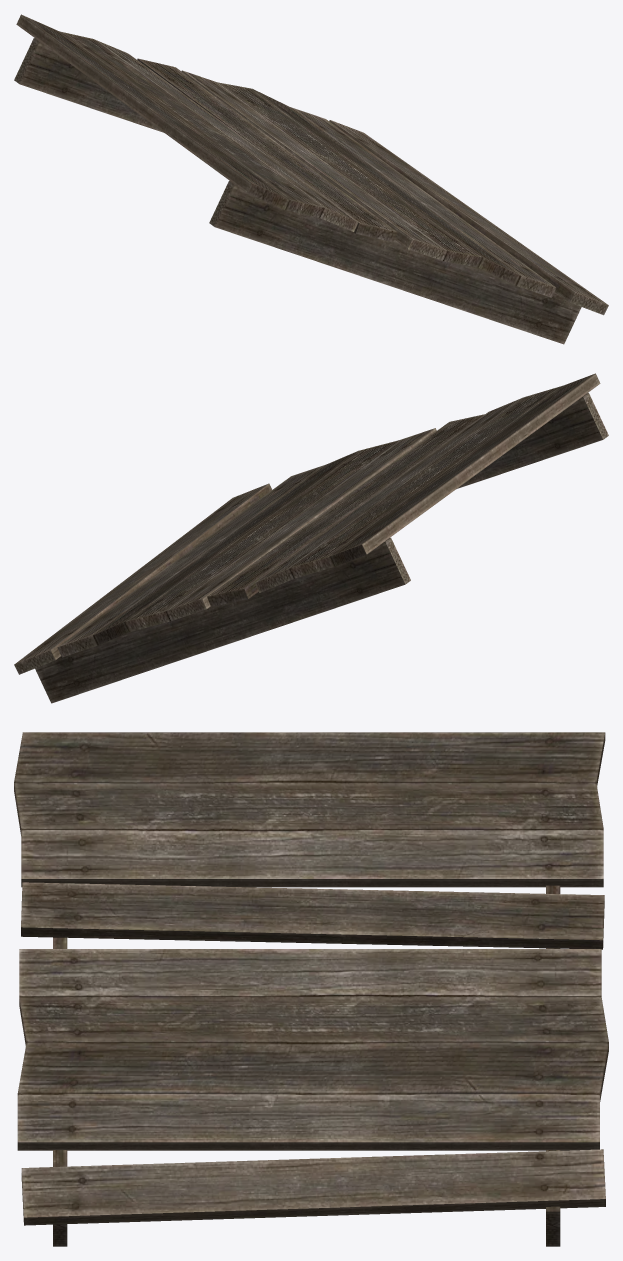
Rendered from eso_gu1_WoodPlatform5-transformed.glb.
3 renders of one model, top to bottom at view 1: azimuth 30°, elevation 25°; view 2: azimuth 150°, elevation 25°; view 3: azimuth 270°, elevation 25°, orthographic. The views are drawn at different scales.
Visible parts, largest first — view 1: default; view 2: default; view 3: default.
Part boxes in pixels (bbox=[...]): default: bbox=[14, 14, 608, 344]; default: bbox=[14, 373, 608, 703]; default: bbox=[14, 732, 608, 1246].
Bounding box in the file's own units: 5.96 × 3.71 × 6.35.
Materials: 1 (1 with a texture image).
